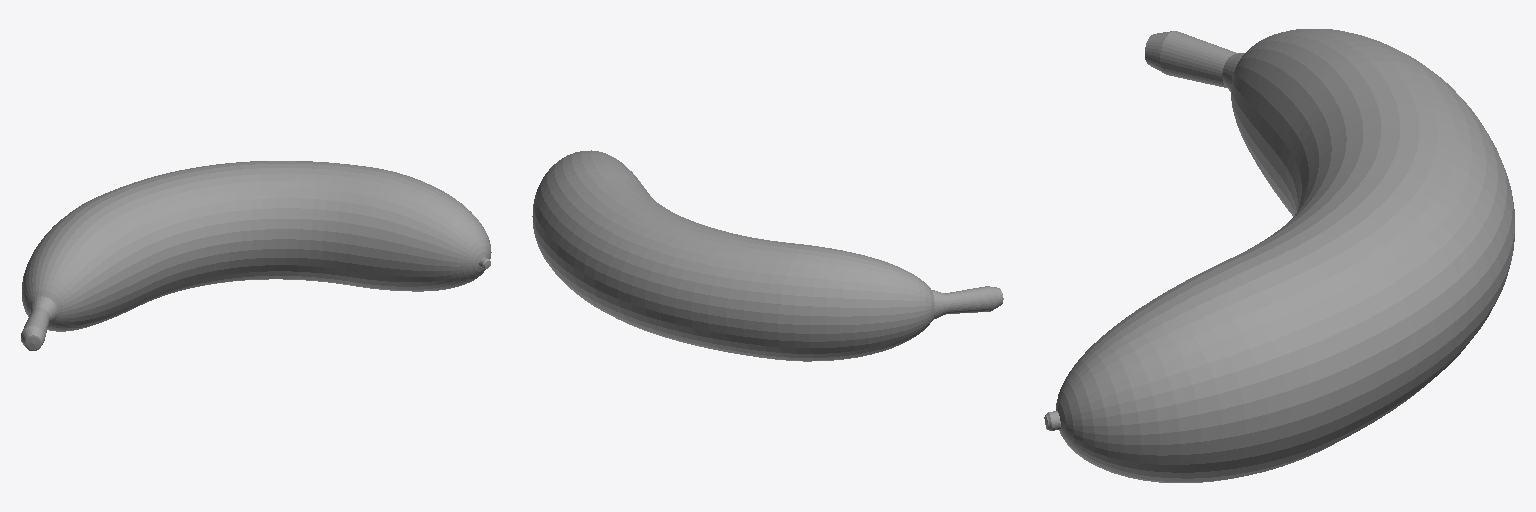
URDF robot description (banana):
<robot name="banana">

  <link name="banana_body">

    <inertial>
      <mass value="0.1" />
      <origin xyz="0 0 0" />
      <inertia  ixx="1.0" ixy="1.0"  ixz="1.0"  iyy="1.0"  iyz="1.0"  izz="1.0" />
    </inertial>

    <visual>
      <origin rpy="0 0 0" xyz="0 0 0"/>
      <geometry>
        <mesh filename="package://pr2_tutorial/worlds/banana.dae"/>
      </geometry>
    </visual>

    <collision>
      <origin rpy="0 0 0" xyz="0 0 0"/>
      <geometry>
        <mesh filename="package://pr2_tutorial/worlds/banana.dae"/>
      </geometry>
    </collision>

  </link>

</robot>

--- Facts derived from the render (not from the file) ---
3 views of the same robot in one strip: view 1: azimuth 30°, elevation 25°; view 2: azimuth 150°, elevation 25°; view 3: azimuth 270°, elevation 25° (orthographic).
Model banana with 1 links and 0 joints (none), rooted at banana_body, posed all joints at 0.
Visible links, largest first — view 1: banana_body; view 2: banana_body; view 3: banana_body.
Boxes of the visible links, <box> form: banana_body: <box>21,161,491,350</box>; banana_body: <box>532,150,1003,361</box>; banana_body: <box>1044,29,1514,482</box>.
Size in the robot's own frame: 0.1457 by 0.0743 by 0.0341 metres.
Meshes: 1 distinct files referenced, 1 mesh visuals loaded (1 Collada DAE).